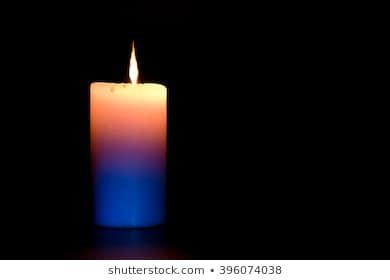fire: (127, 41, 141, 85)
